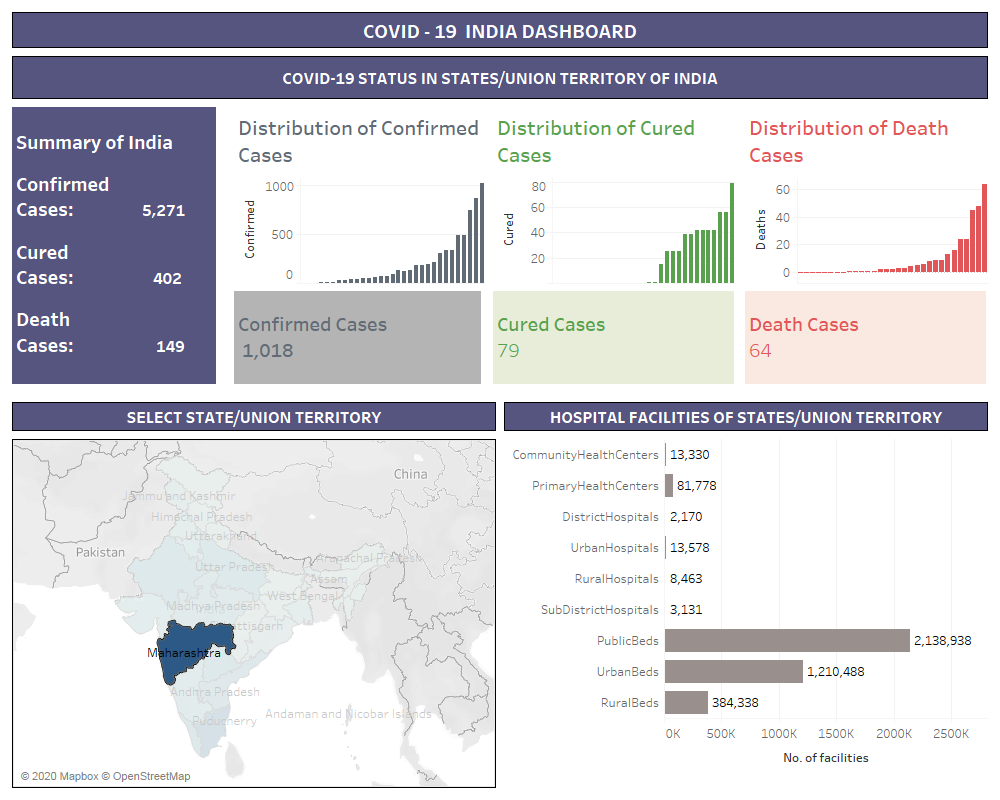

This screenshot's page, from the dashboard's own definition file:
{"tool":"tableau","page":{"name":"COVID-19 Dashboard","canvas":[1000,800],"ordinal":0},"visuals":[{"type":"text","box":[8,8,984,44]},{"type":"text","box":[8,52,984,51]},{"type":"worksheet","title":"India_details","mark":"Automatic","box":[8,103,222,295]},{"type":"worksheet","title":"Graph Count","mark":"Bar","rows":["Confirmed"],"cols":["Date"],"box":[230,103,259.2,184]},{"type":"worksheet","title":"Graph Cured","mark":"Bar","rows":["Cured"],"cols":["Date"],"box":[489.2,103,251.4,184]},{"type":"worksheet","title":"Graph Death","mark":"Bar","rows":["Deaths"],"cols":["Date"],"box":[740.6,103,251.4,184]},{"type":"worksheet","title":"Total_confirm","mark":"Automatic","box":[230,287,259,111]},{"type":"worksheet","title":"Total_Cured","mark":"Automatic","box":[489,287,252,111]},{"type":"worksheet","title":"Total_Death","mark":"Automatic","box":[741,287,251,111]},{"type":"text","box":[8,398,492,37]},{"type":"text","box":[500,398,492,37]},{"type":"worksheet","title":"Map","mark":"Automatic","box":[8,435,492,357]},{"type":"worksheet","title":"facility_graph","mark":"Bar","box":[500,435,492,357]}]}

Visuals, with their boxes in screenshot pixels (x1, y1, x2, y2), scaled from the page's 1000x800 canvas onto the 1000x800 screenshot:
text: l=8, t=8, r=992, b=52
text: l=8, t=52, r=992, b=103
"India_details" worksheet: l=8, t=103, r=230, b=398
"Graph Count" worksheet (Bar marks): l=230, t=103, r=489, b=287
"Graph Cured" worksheet (Bar marks): l=489, t=103, r=741, b=287
"Graph Death" worksheet (Bar marks): l=741, t=103, r=992, b=287
"Total_confirm" worksheet: l=230, t=287, r=489, b=398
"Total_Cured" worksheet: l=489, t=287, r=741, b=398
"Total_Death" worksheet: l=741, t=287, r=992, b=398
text: l=8, t=398, r=500, b=435
text: l=500, t=398, r=992, b=435
"Map" worksheet: l=8, t=435, r=500, b=792
"facility_graph" worksheet (Bar marks): l=500, t=435, r=992, b=792
